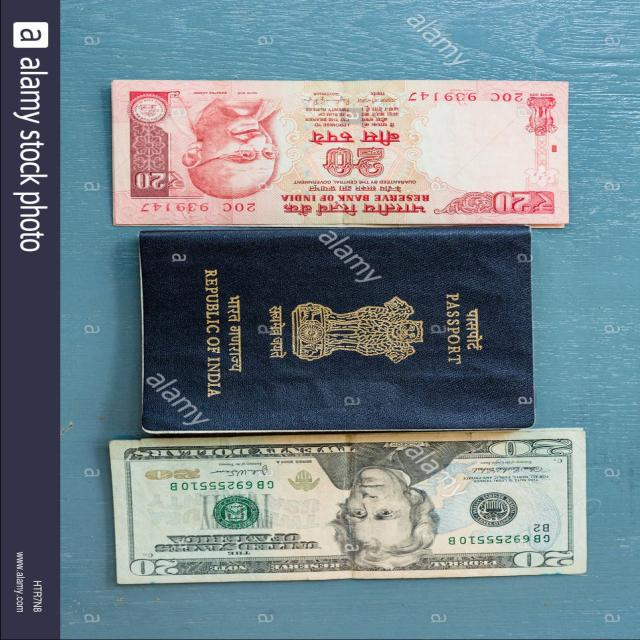20IndianRupees: (118, 83, 571, 220)
